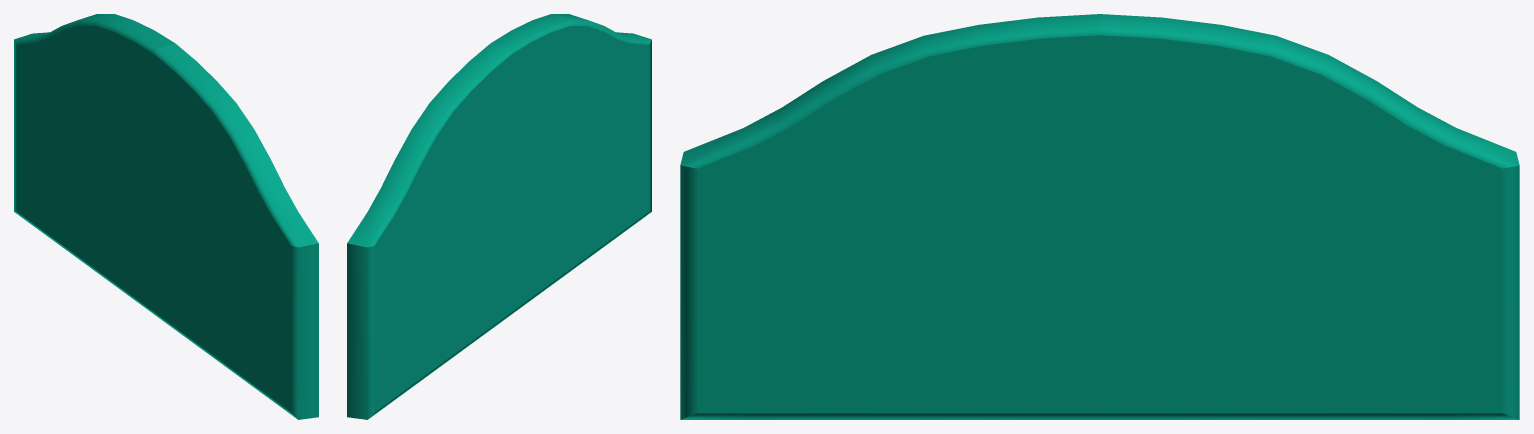
Rendered from Bed_End.fbx.
The picture shows the model from 3 angles, left to right: view 1: azimuth 30°, elevation 25°; view 2: azimuth 150°, elevation 25°; view 3: azimuth 270°, elevation 25°; orthographic projection. The views are drawn at different scales.
Visible parts, largest first — view 1: Bed_End; view 2: Bed_End; view 3: Bed_End.
Part boxes in pixels (bbox=[...]): Bed_End: bbox=[14, 14, 318, 419]; Bed_End: bbox=[347, 14, 651, 419]; Bed_End: bbox=[680, 14, 1519, 419].
Bounding box in the file's own units: 38.27 × 423 × 817.
